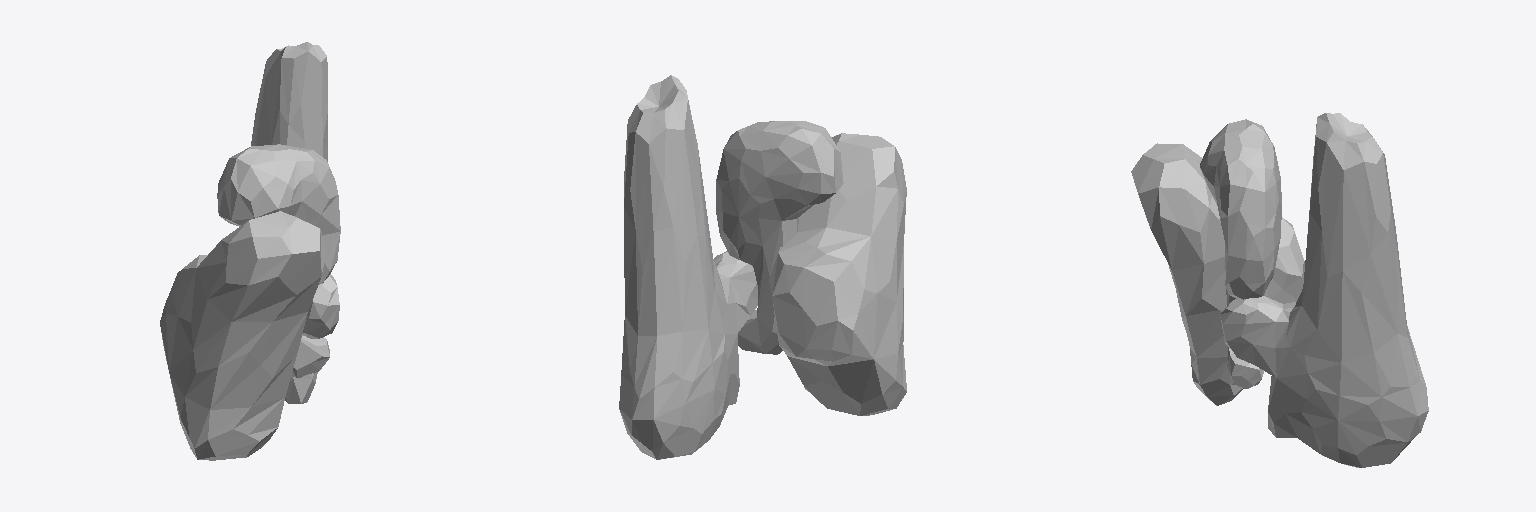
The model's file is p_gun.obj.
The picture shows the model from 3 angles: view 1: azimuth 30°, elevation 25°; view 2: azimuth 150°, elevation 25°; view 3: azimuth 270°, elevation 25°; orthographic projection.
Visible parts, largest first — view 1: ct_gign.ct_gign_reference.smd.mesh_2.003_ct_gign.ct_gign_referen; view 2: ct_gign.ct_gign_reference.smd.mesh_2.003_ct_gign.ct_gign_referen; view 3: ct_gign.ct_gign_reference.smd.mesh_2.003_ct_gign.ct_gign_referen.
Boxes of the visible parts, box(x1,y1,x2,y2) form: ct_gign.ct_gign_reference.smd.mesh_2.003_ct_gign.ct_gign_referen: box(160, 42, 340, 460); ct_gign.ct_gign_reference.smd.mesh_2.003_ct_gign.ct_gign_referen: box(619, 75, 906, 459); ct_gign.ct_gign_reference.smd.mesh_2.003_ct_gign.ct_gign_referen: box(1131, 113, 1428, 467).
Bounding box in the file's own units: 6.52 × 11.02 × 8.27.